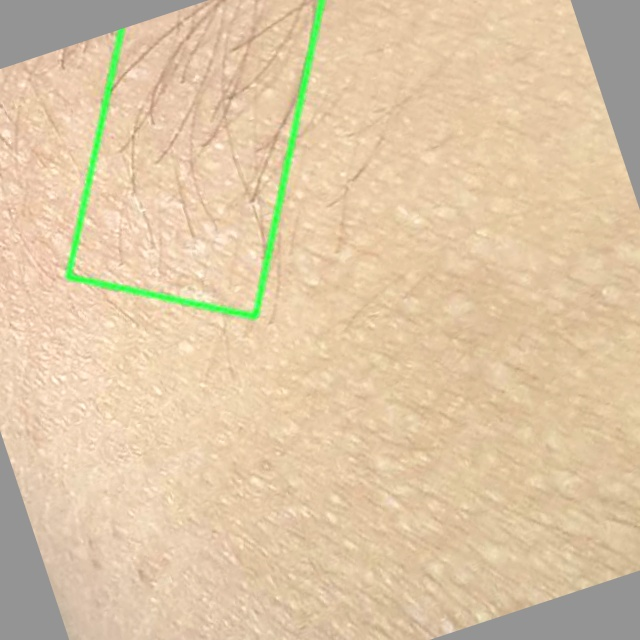Contact Dermatitis: (67, 0, 321, 317)
